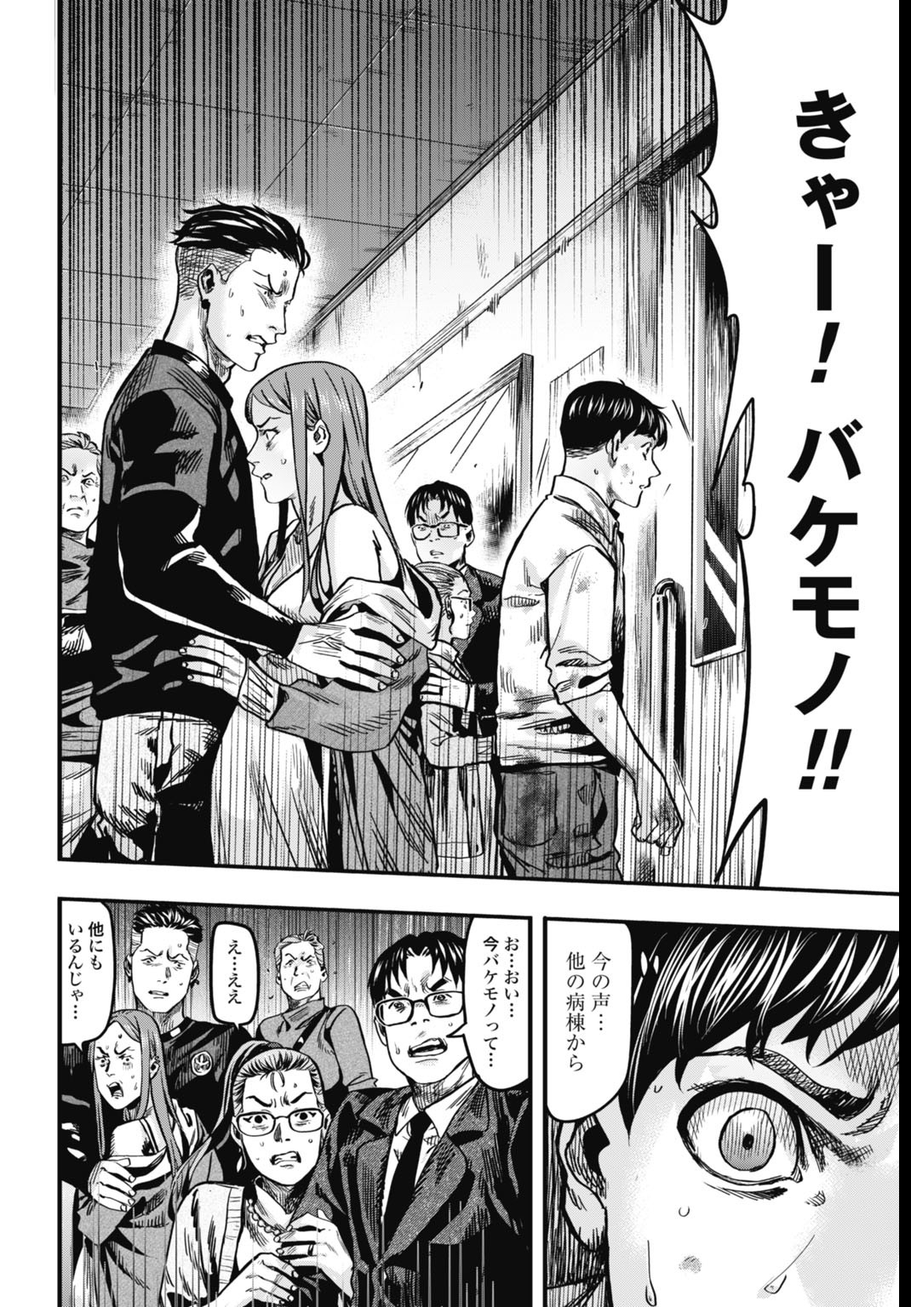bubbles: (666, 1, 897, 895), (540, 913, 635, 1132), (451, 916, 532, 1097), (48, 890, 127, 1062), (204, 916, 265, 1036)
